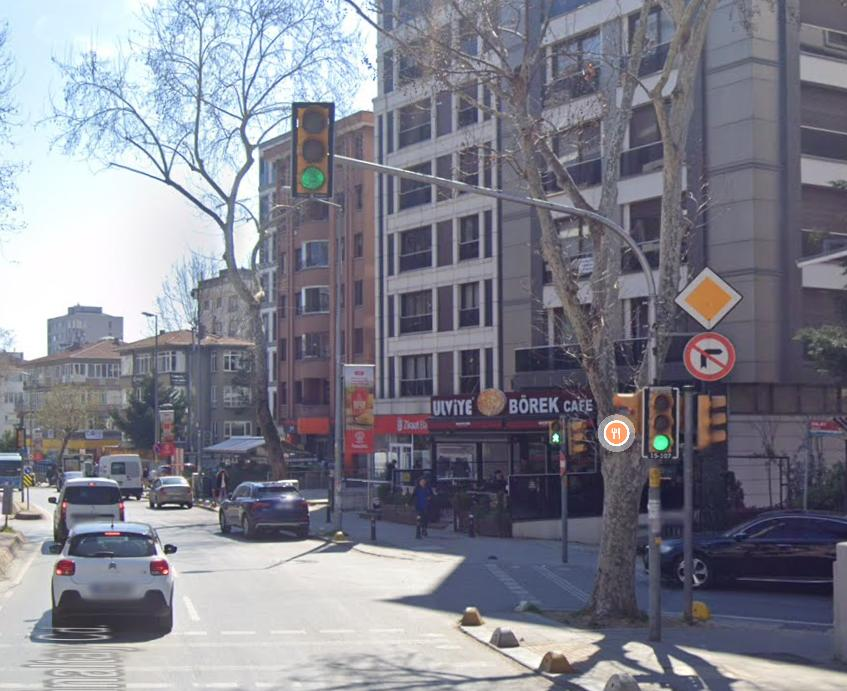greenlight: (294, 102, 334, 196), (644, 386, 679, 455)
rightturnsareforbidden: (682, 333, 735, 382)
